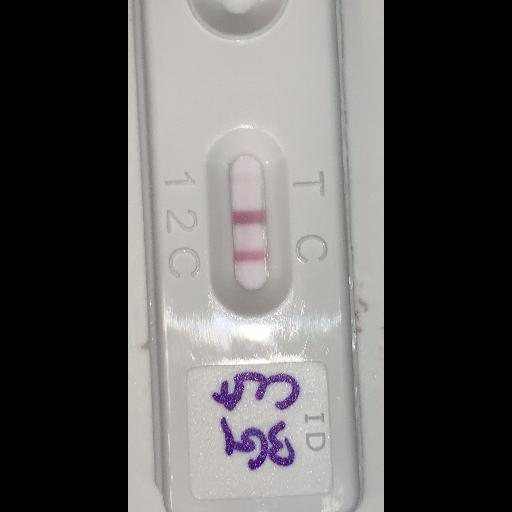Pos: (151, 0, 359, 511)
